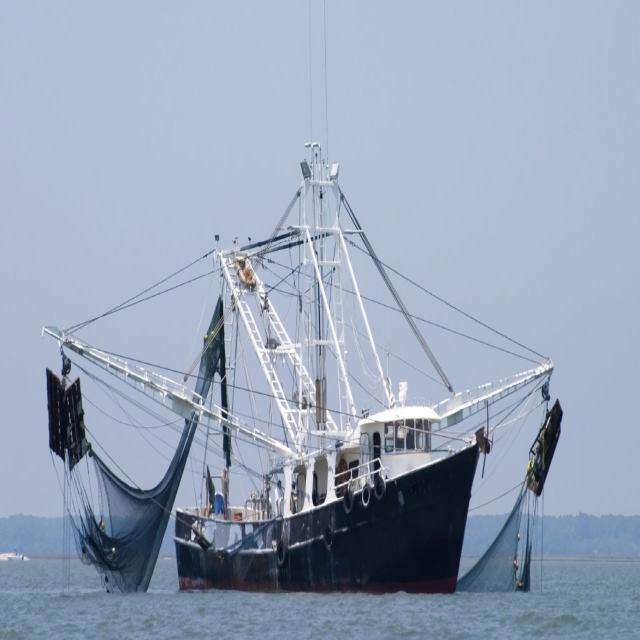Fishing Boat: (69, 122, 568, 628)
